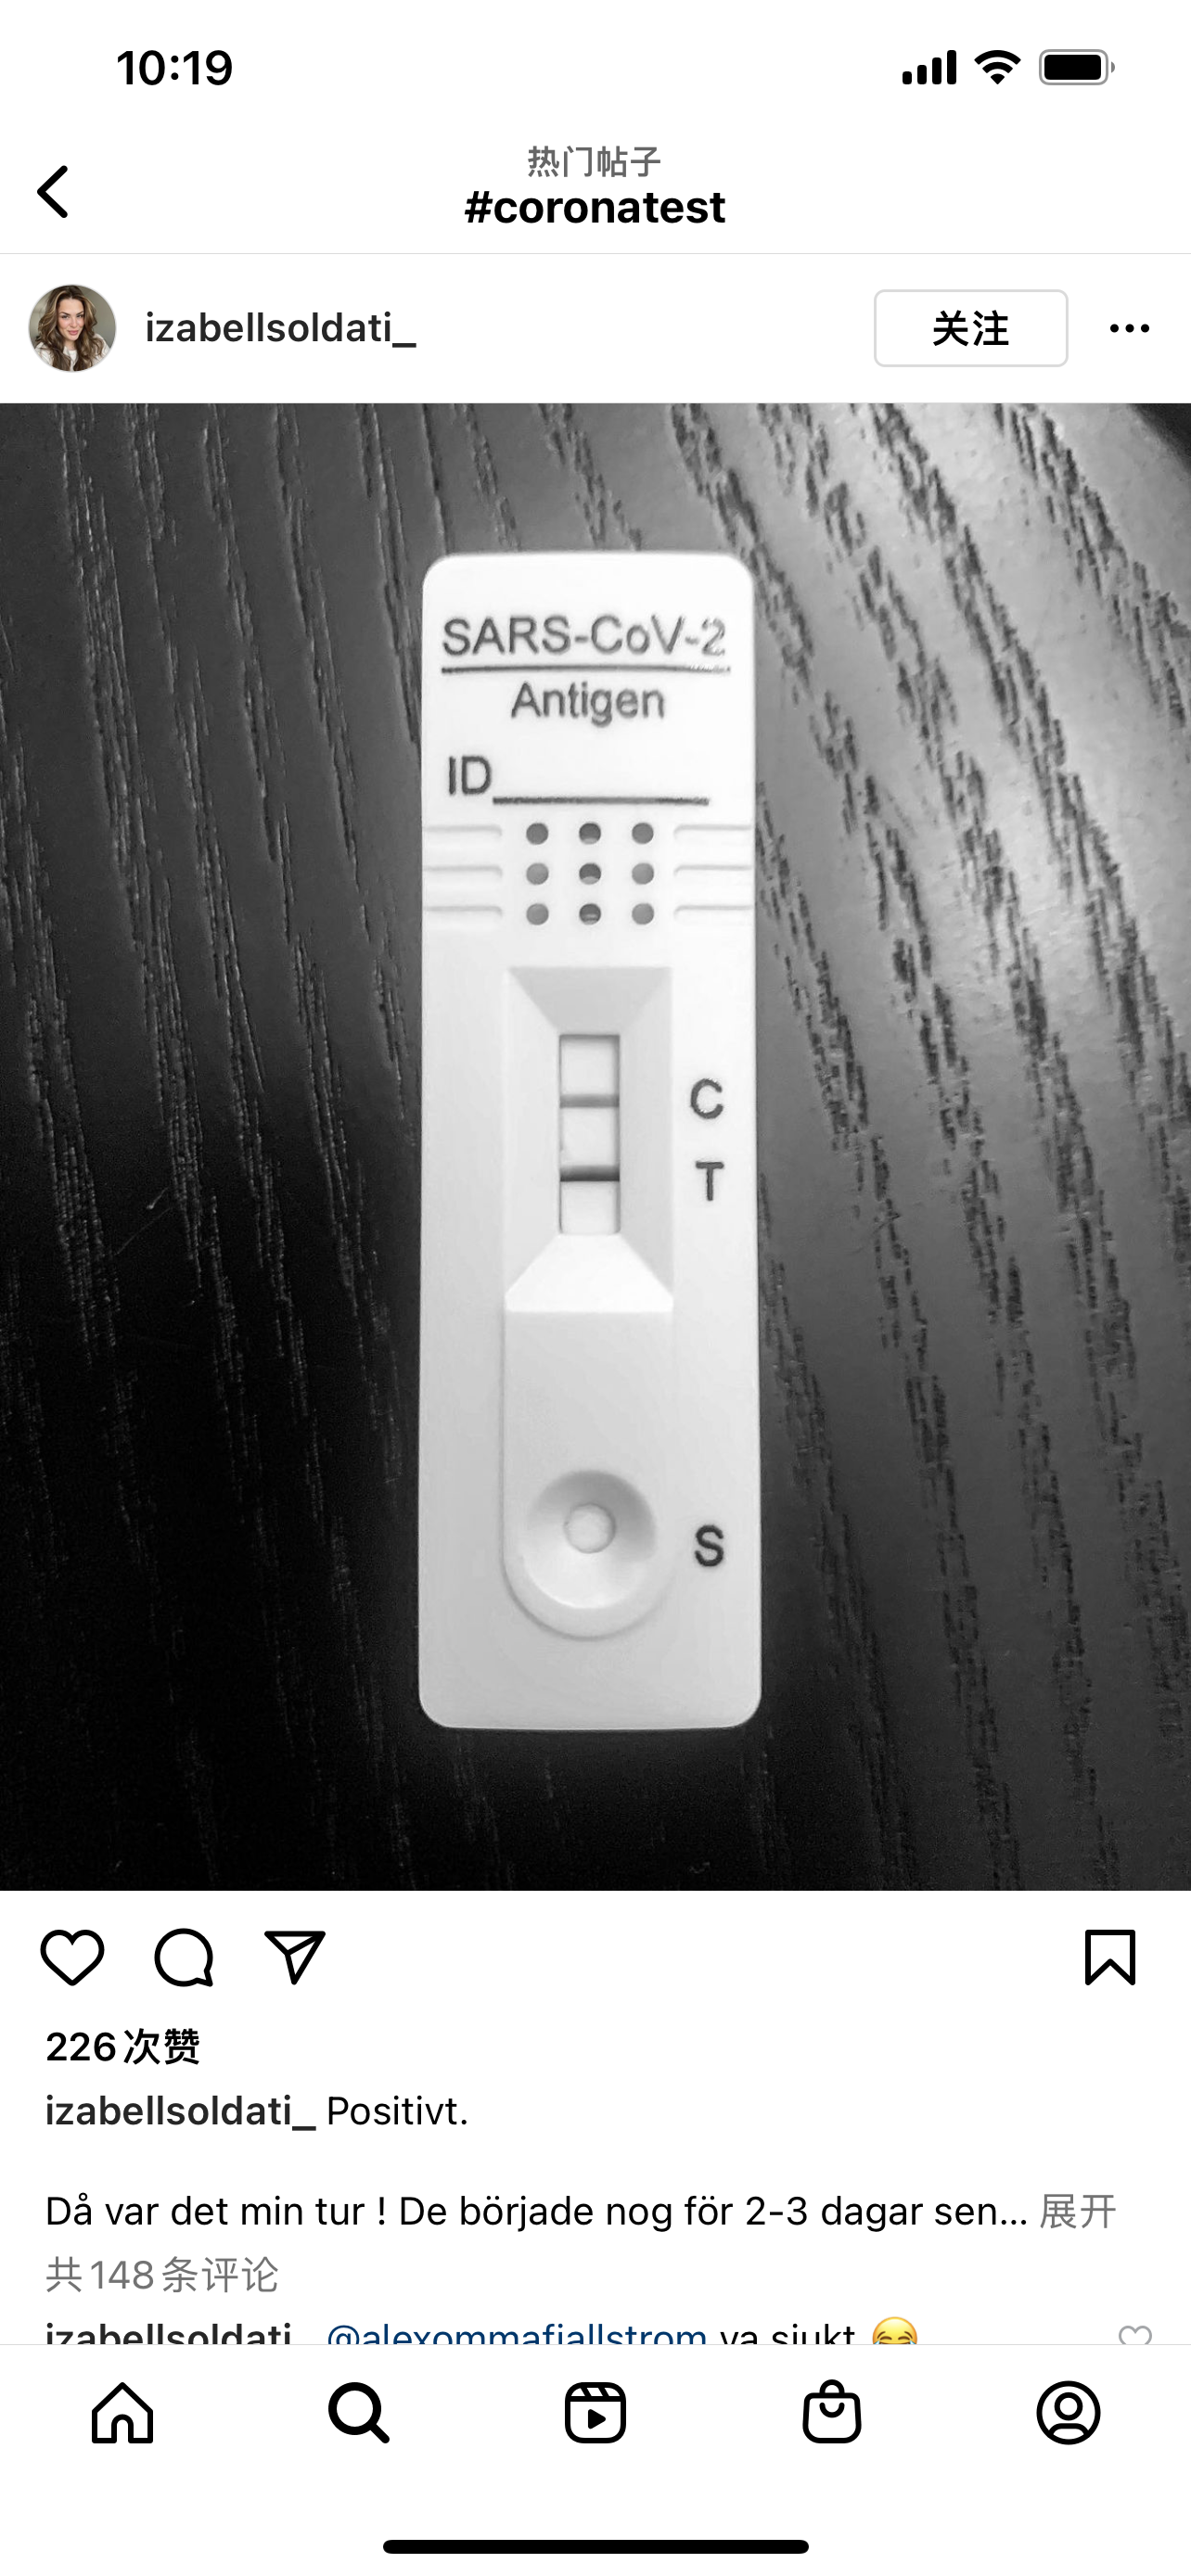positive: (513, 974, 672, 1281)
